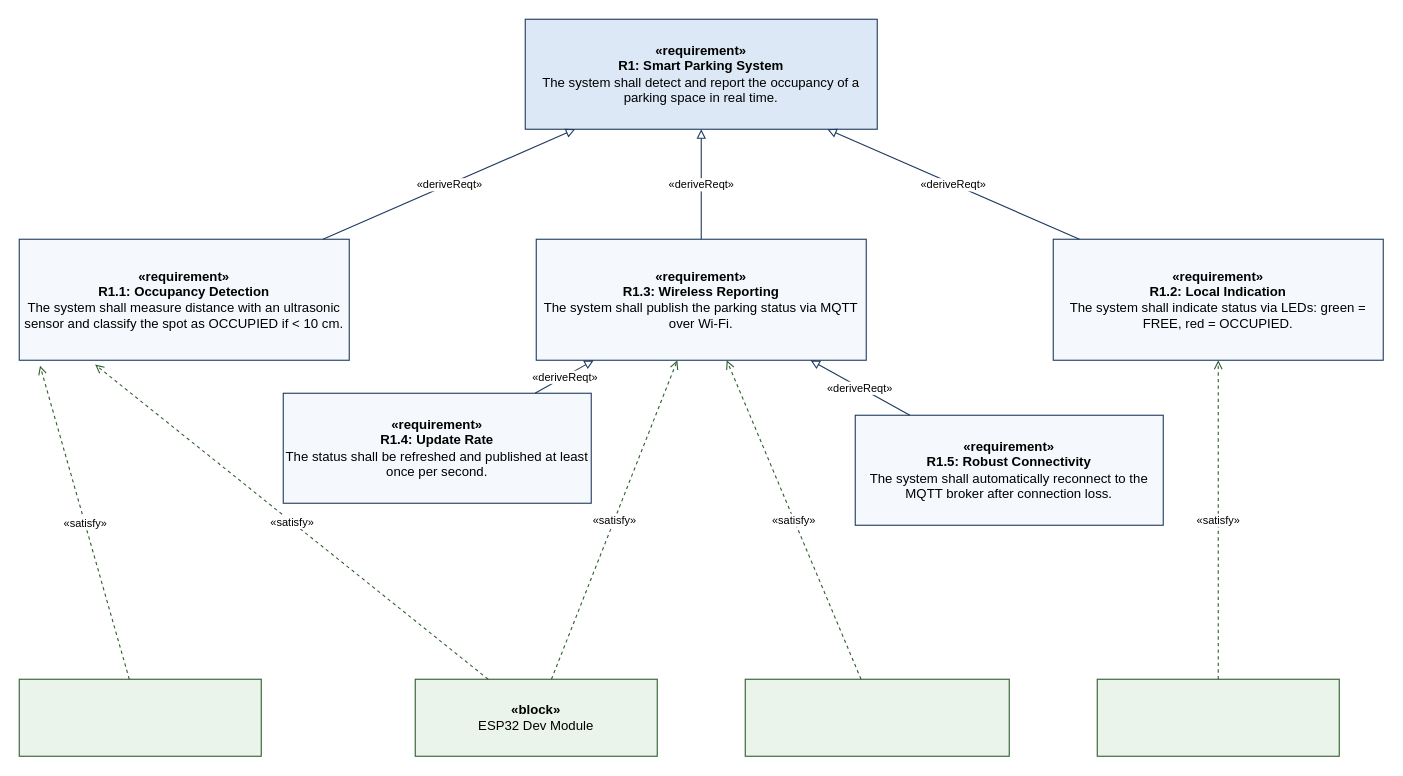
Image size: 1403x776. Some labels were removed from this diagram. Here are the shapes that lost their labels. From the top down, the centre of each, then its label:
At point 139,717: "«block» HC-SR04 Ultrasonic Sensor".
At point 876,717: "«block» Raspberry Pi 3 (MQTT Broker)".
At point 1217,717: "«block» LED Modules (Red / Green)".
